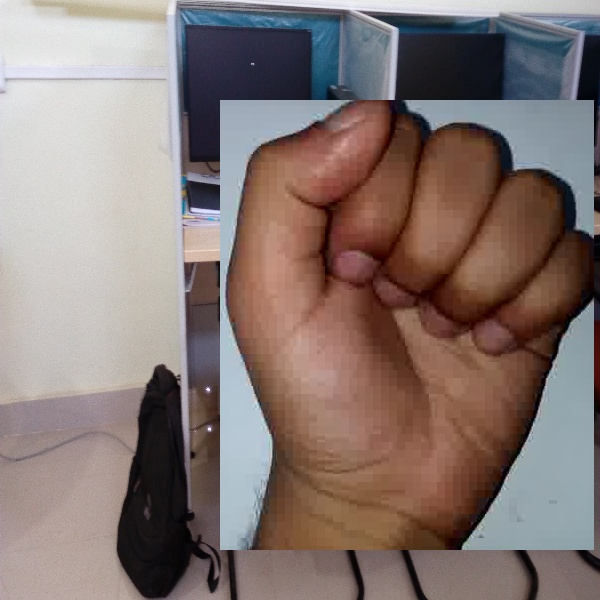A: (220, 100, 594, 550)
